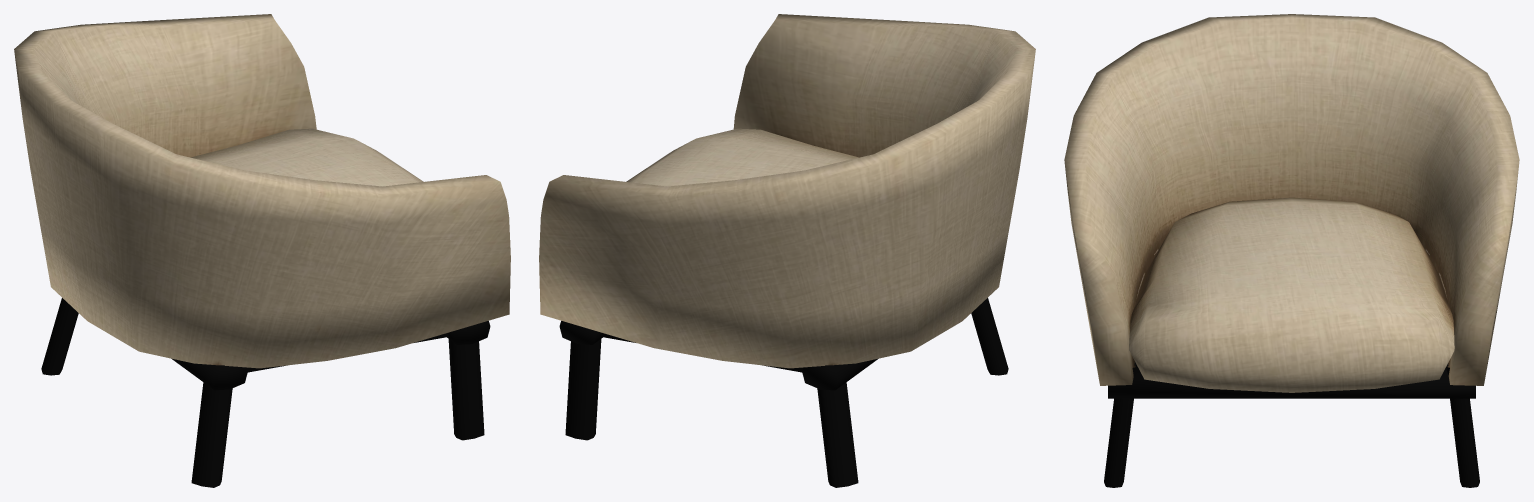
Rendered from armchair01.glb.
3 renders of one model, left to right at view 1: azimuth 30°, elevation 25°; view 2: azimuth 150°, elevation 25°; view 3: azimuth 270°, elevation 25°, orthographic. The views are drawn at different scales.
Parts seen in each view (by area): view 1: armchair01; view 2: armchair01; view 3: armchair01.
Part boxes in pixels (left/top/right/bottom): armchair01: left=14, top=14, right=510, bottom=487; armchair01: left=539, top=14, right=1035, bottom=487; armchair01: left=1064, top=14, right=1519, bottom=487.
Size of the model in its own units: 0.6223 by 0.535 by 0.685.
1 material, 1 textured.
